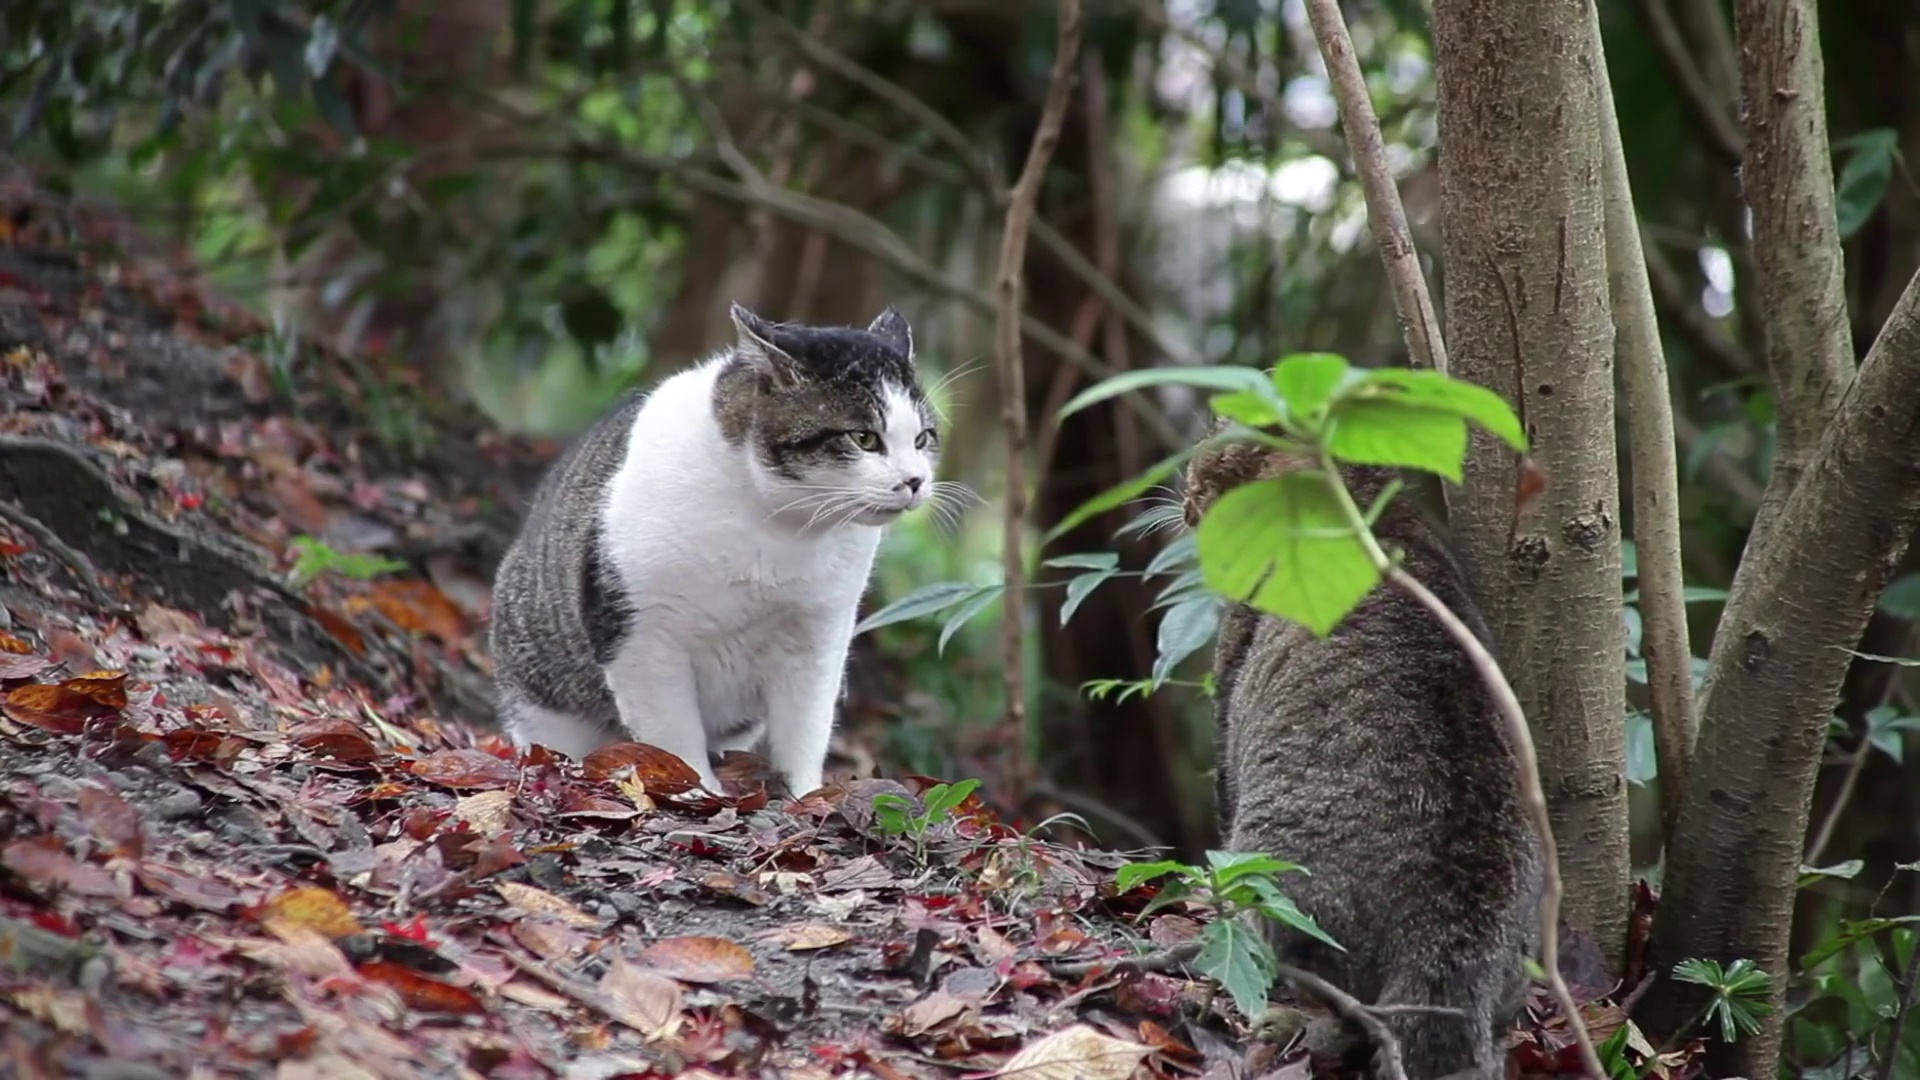black-white: (485, 303, 932, 799)
pure black: (1184, 363, 1544, 1080)
